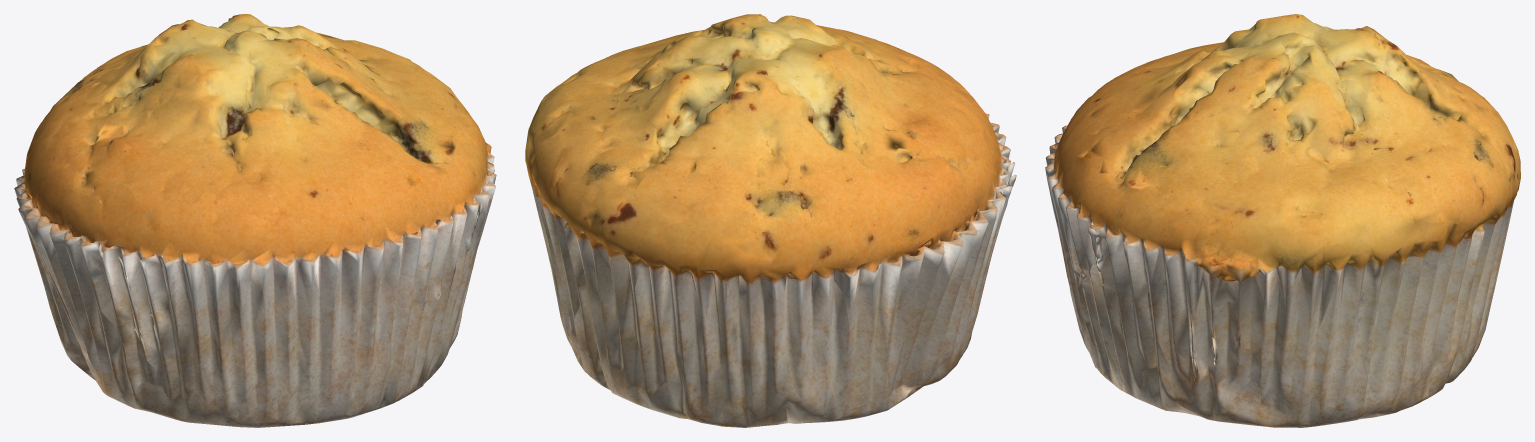
The model's file is muffin-browser.glb.
3 renders of one model, left to right at view 1: azimuth 30°, elevation 25°; view 2: azimuth 150°, elevation 25°; view 3: azimuth 270°, elevation 25°, orthographic. The views are drawn at different scales.
Visible parts, largest first — view 1: 3DCake001_HQ-2K-JPG; view 2: 3DCake001_HQ-2K-JPG; view 3: 3DCake001_HQ-2K-JPG.
Part boxes in pixels (bbox=[...]): 3DCake001_HQ-2K-JPG: bbox=[14, 14, 496, 427]; 3DCake001_HQ-2K-JPG: bbox=[525, 14, 1016, 427]; 3DCake001_HQ-2K-JPG: bbox=[1045, 14, 1520, 427].
Bounding box in the file's own units: 0.098 × 0.0704 × 0.0963.
Materials: 1 (1 with a texture image).
